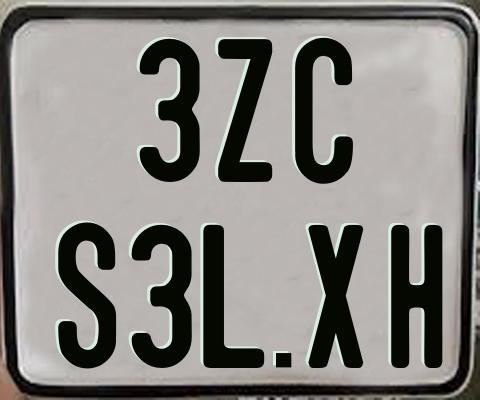3: (140, 36, 202, 185), (130, 225, 190, 369)
C: (292, 37, 351, 184)
H: (389, 225, 446, 374)
L: (202, 223, 269, 369)
S: (55, 222, 114, 375)
X: (307, 225, 367, 374)
Z: (215, 38, 273, 183)
